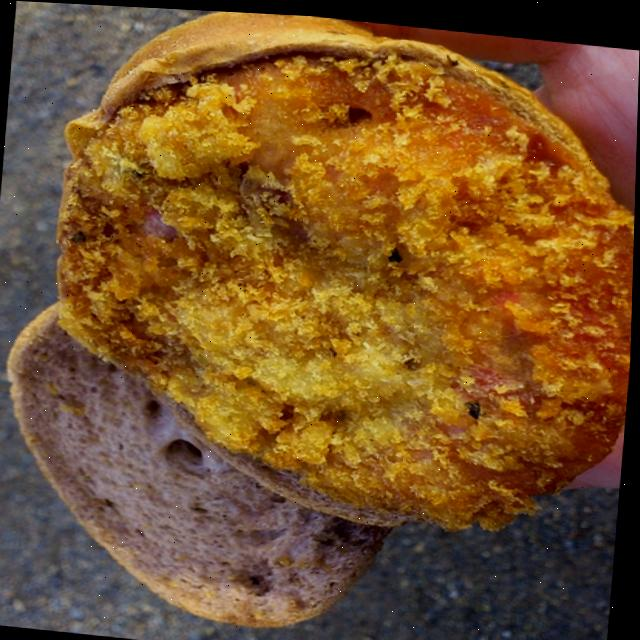炸货点心: (22, 1, 640, 561)
